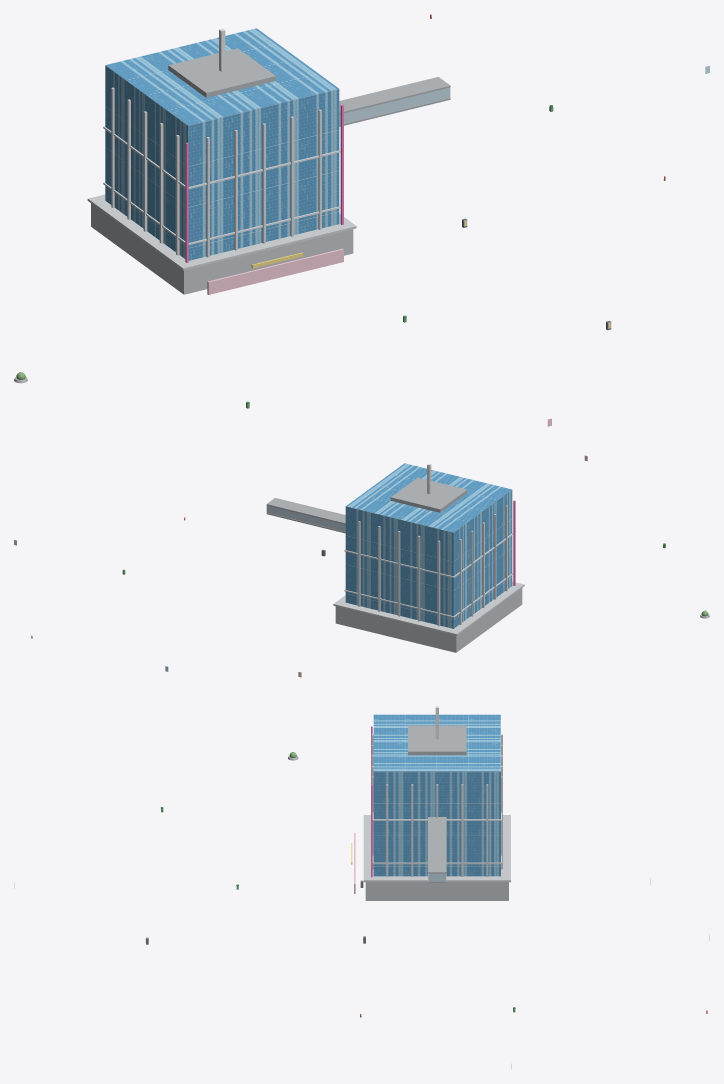
File: tile_1000_-1000.glb
3 renders of one model, top to bottom at view 1: azimuth 30°, elevation 25°; view 2: azimuth 150°, elevation 25°; view 3: azimuth 270°, elevation 25°, orthographic. The views are drawn at different scales.
Parts seen in each view (by area): view 1: tile; view 2: tile; view 3: tile.
Part boxes in pixels (x1,y1,x2,y2): tile: (14, 14, 709, 426); tile: (14, 455, 709, 677); tile: (14, 706, 709, 1069).
Bounding box in the file's own units: 234 × 56.49 × 219.
Materials: 20 (1 with a texture image).
